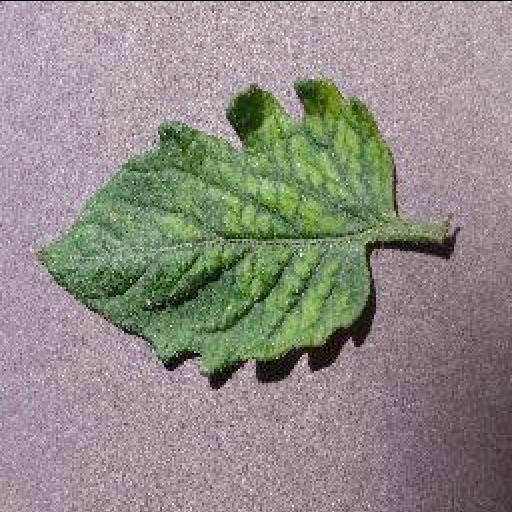Mosaic Virus: (30, 72, 398, 378)
